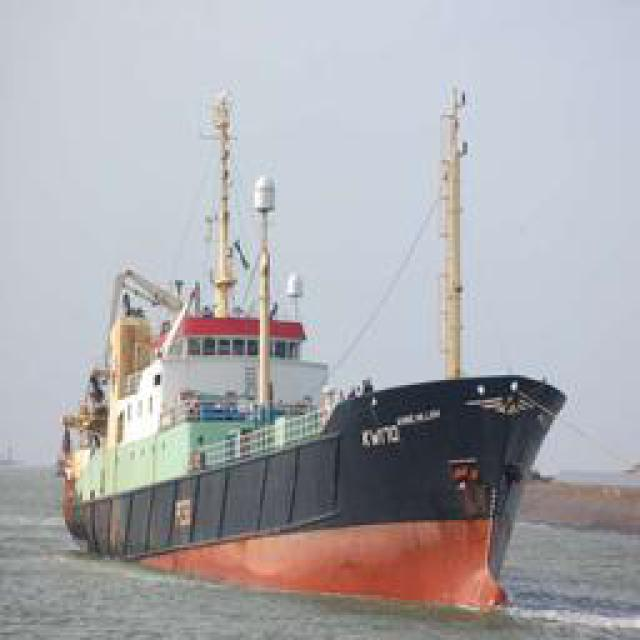Ship: (57, 229, 560, 599)
